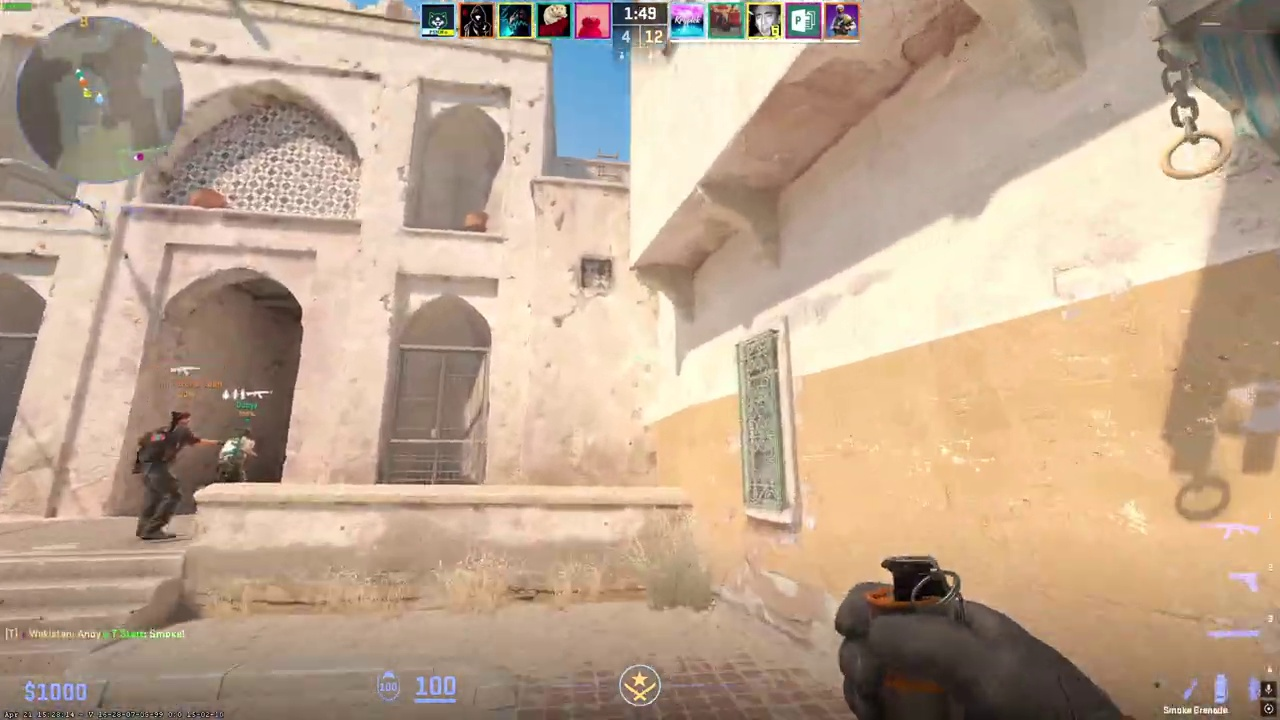Terrorist: (130, 406, 197, 541), (217, 427, 257, 484)
